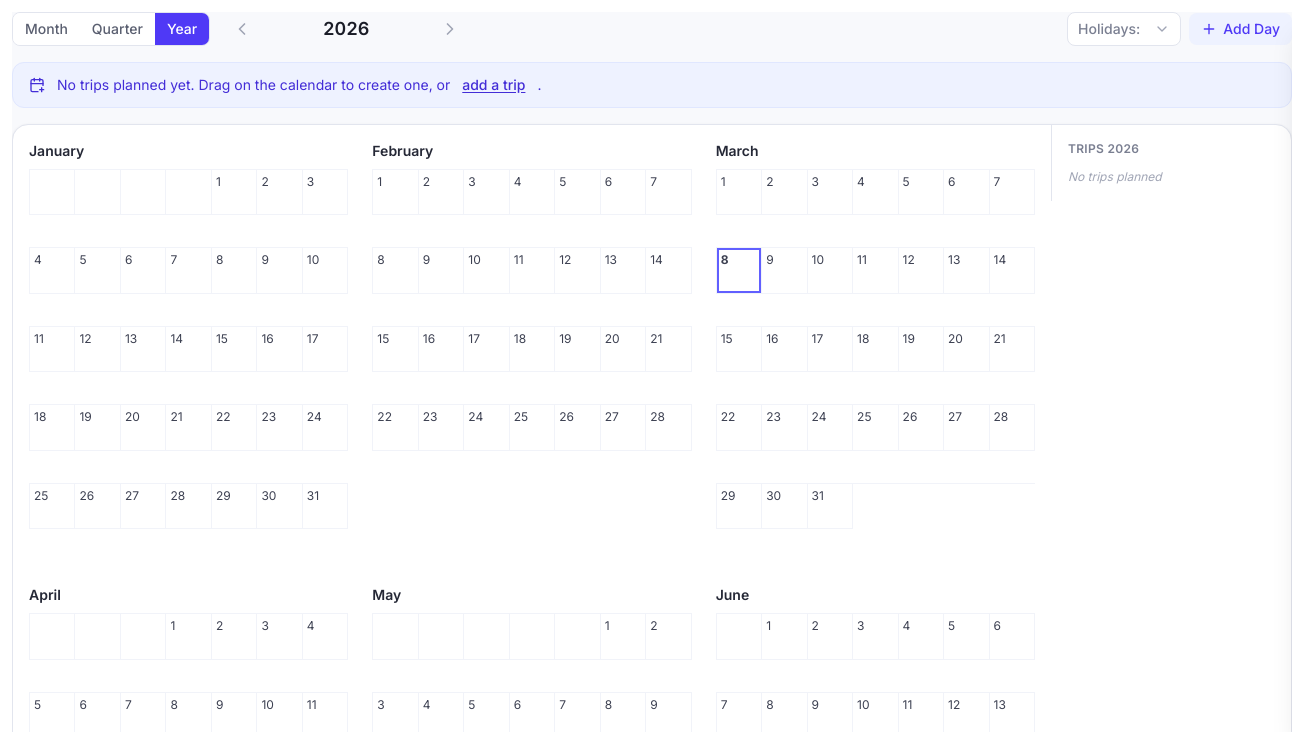
Test: PlanningCenterPage › clicking a day in quarter view opens trip create sidebar without zooming
The width and height of the screenshot is (1304, 732).
Click the button "Quarter". click: (117, 29)
box: [80,13,155,45]
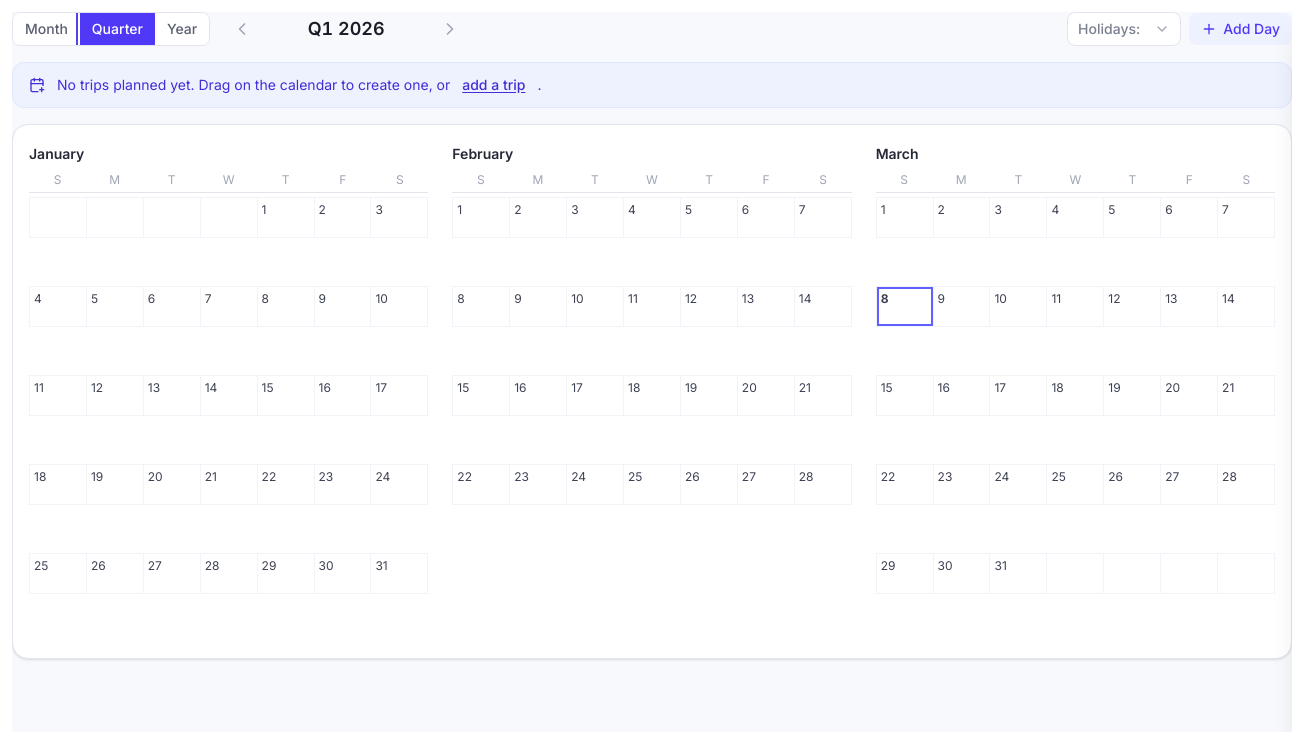
Click the 1st text "15". click: (286, 396)
box: [258,376,314,416]
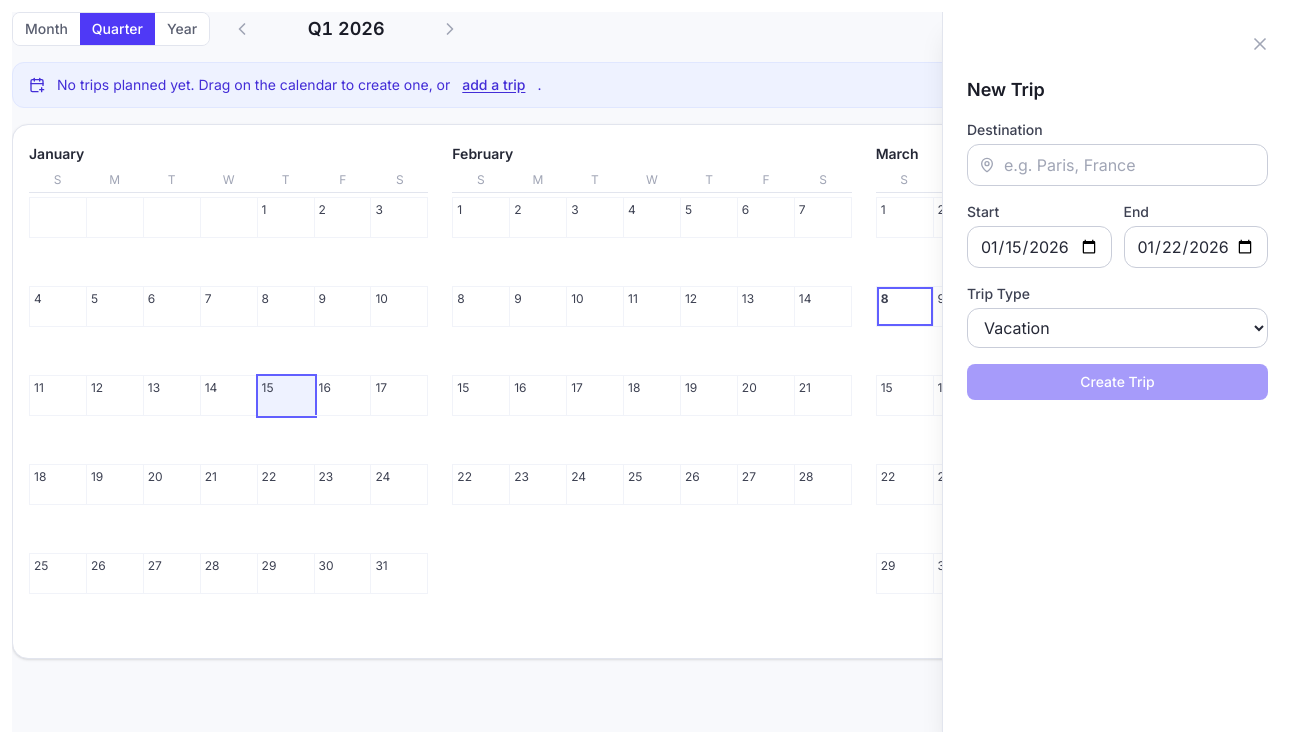
expect the heading "New Trip" is shown: met, box [967,79,1045,100]
